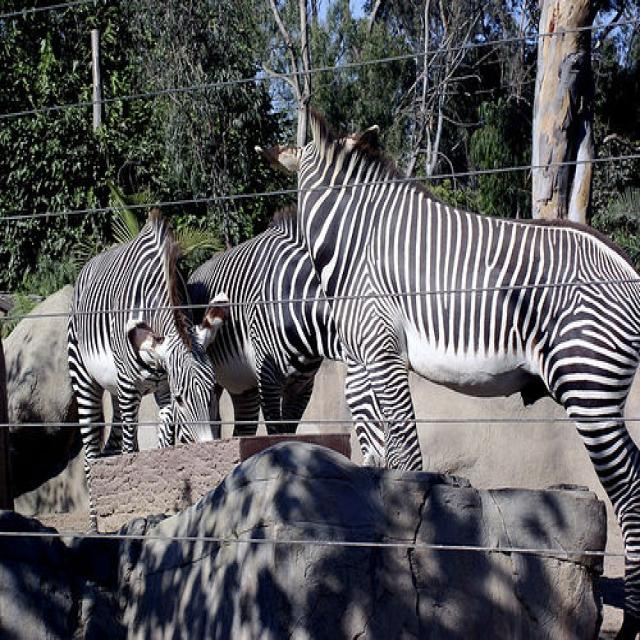zebra: (276, 100, 640, 633), (71, 216, 228, 456), (183, 206, 339, 440)
